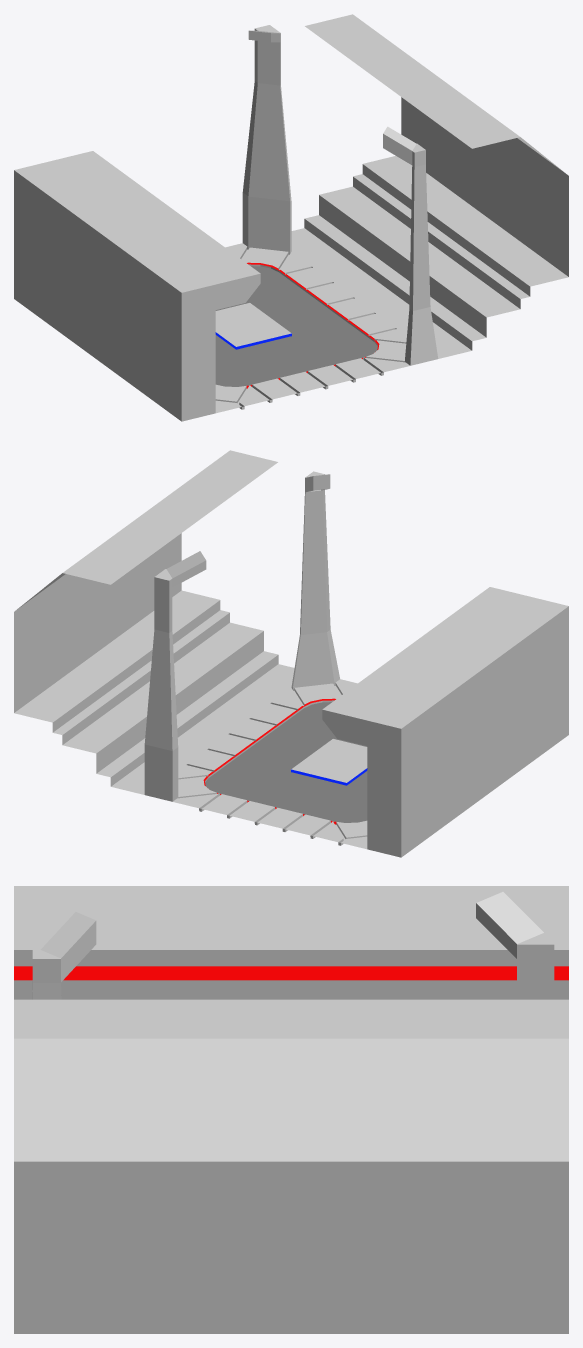
File: stadi.glb
3 renders of one model, top to bottom at view 1: azimuth 30°, elevation 25°; view 2: azimuth 150°, elevation 25°; view 3: azimuth 270°, elevation 25°, orthographic. The views are drawn at different scales.
Parts seen in each view (by area): view 1: Plane; view 2: Plane; view 3: Plane.
Boxes of the visible parts, left/top/right/bottom form: Plane: left=14, top=14, right=568, bottom=421; Plane: left=14, top=450, right=568, bottom=857; Plane: left=14, top=886, right=568, bottom=1333.
Bounding box in the file's own units: 80 × 46.24 × 60.01.
